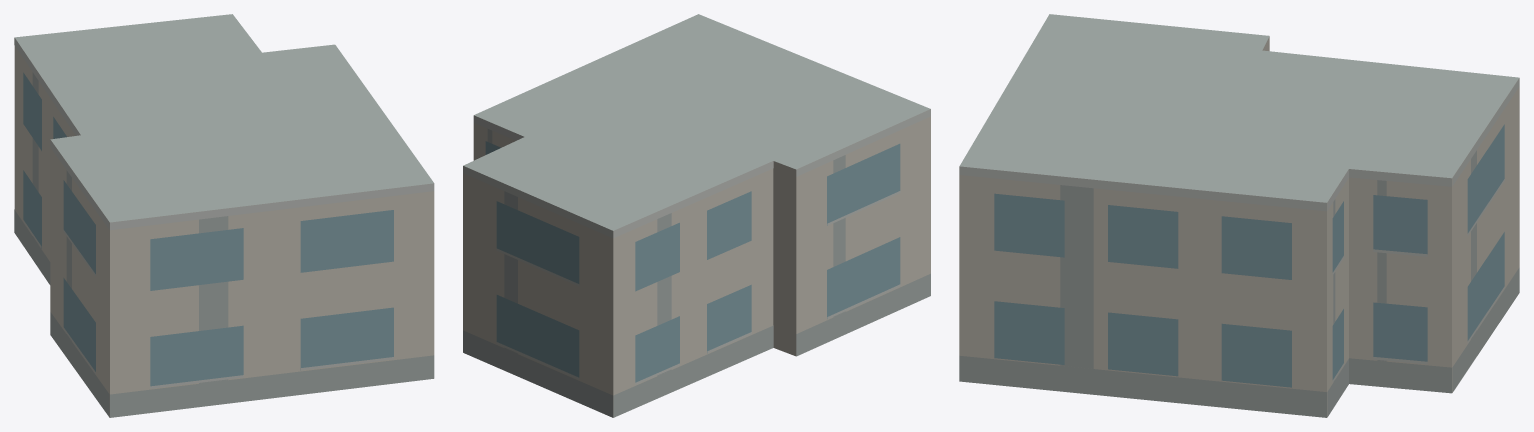
The model's file is survey-upis-32556153.glb.
The picture shows the model from 3 angles, left to right: view 1: azimuth 30°, elevation 25°; view 2: azimuth 150°, elevation 25°; view 3: azimuth 270°, elevation 25°; orthographic projection. The views are drawn at different scales.
Visible parts, largest first — view 1: survey-upis-32556153.tmp; view 2: survey-upis-32556153.tmp; view 3: survey-upis-32556153.tmp.
Boxes of the visible parts, box(x1,y1,x2,y2) form: survey-upis-32556153.tmp: box(14, 14, 434, 417); survey-upis-32556153.tmp: box(463, 14, 930, 417); survey-upis-32556153.tmp: box(959, 14, 1519, 417).
Size of the model in its own units: 11.5 by 6.1 by 14.42.
